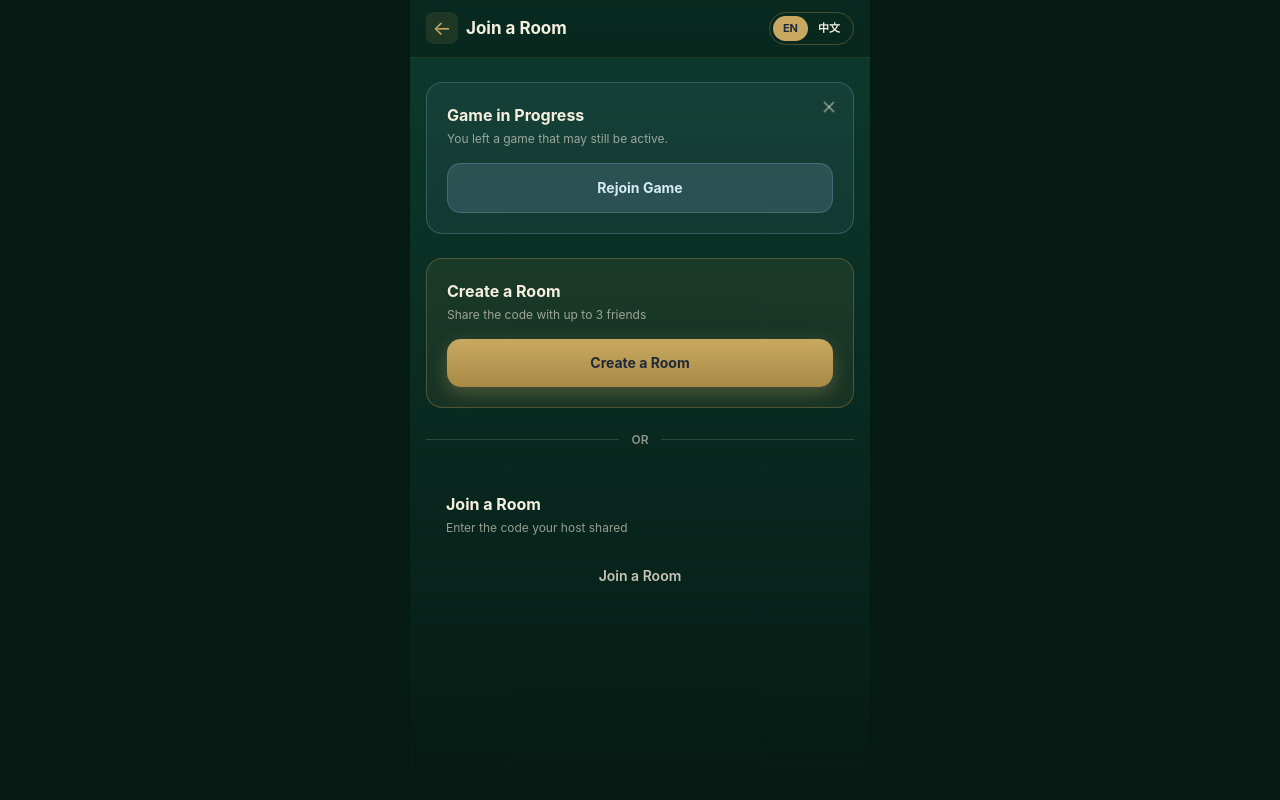
LobbyPage › Lobby·rejoin-dismiss: clicking Dismiss hides the card and clears localStorage
Click the button named "dismiss": (829, 106) [817,94,841,118]
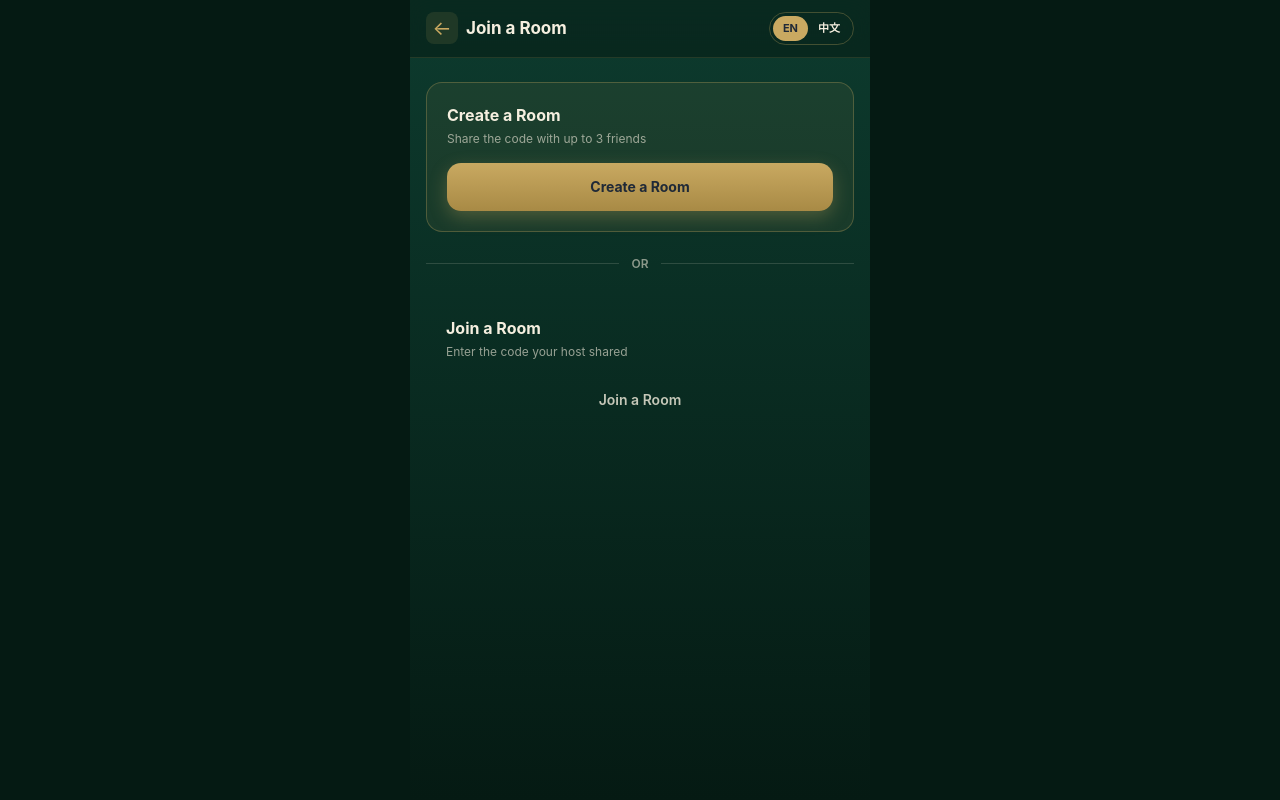
Check: the element with test id "rejoin-card" is gone
